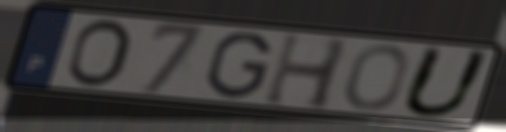7: (143, 19, 210, 98)
G: (203, 30, 275, 100)
H: (259, 29, 354, 112)
O: (61, 16, 135, 89), (341, 42, 412, 112)
U: (396, 43, 497, 120)
